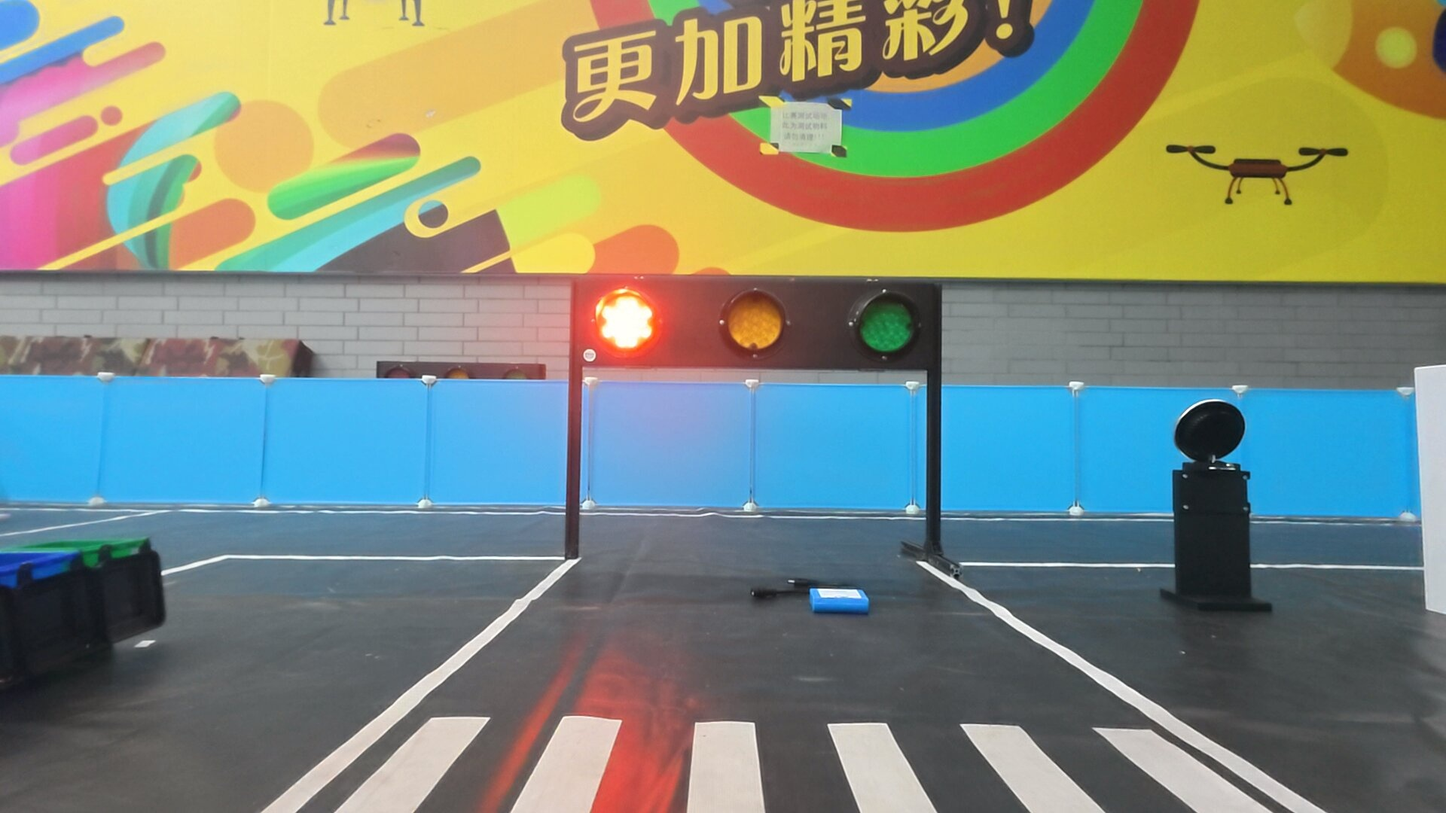stop: (590, 284, 660, 354)
